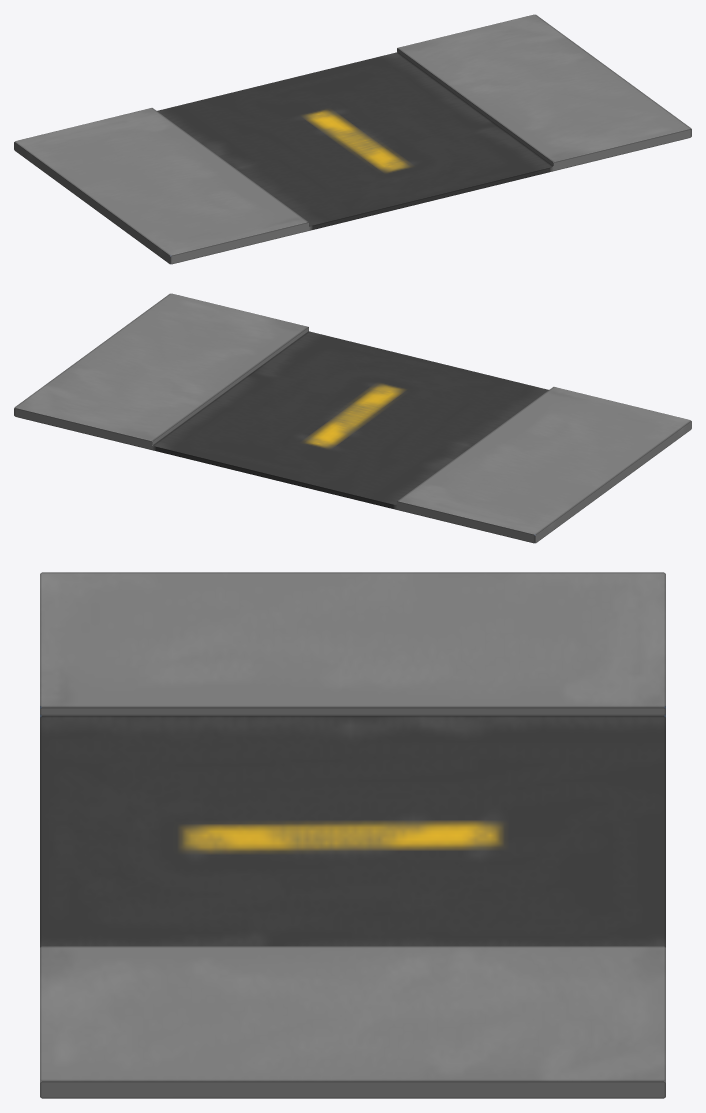
File: model_Road_walkway.fbx
3 views of the same model, one above another, from view 1: azimuth 30°, elevation 25°; view 2: azimuth 150°, elevation 25°; view 3: azimuth 270°, elevation 25° (orthographic). The views are drawn at different scales.
Parts seen in each view (by area): view 1: cuboid; view 2: cuboid; view 3: cuboid.
Part boxes in pixels (box(x1,y1,x2,y2)): cuboid: box(14, 14, 691, 264); cuboid: box(14, 293, 691, 543); cuboid: box(40, 572, 665, 1098).
Bounding box in the file's own units: 1562 × 25 × 812.
Materials: 1 (1 with a texture image).
